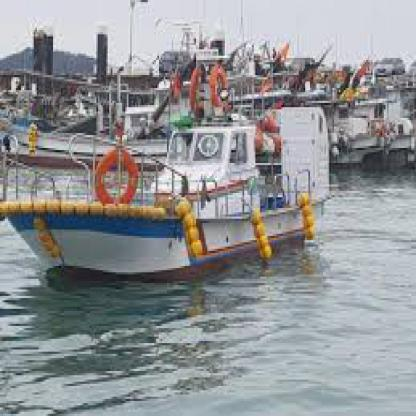fish-b: (0, 82, 339, 290)
